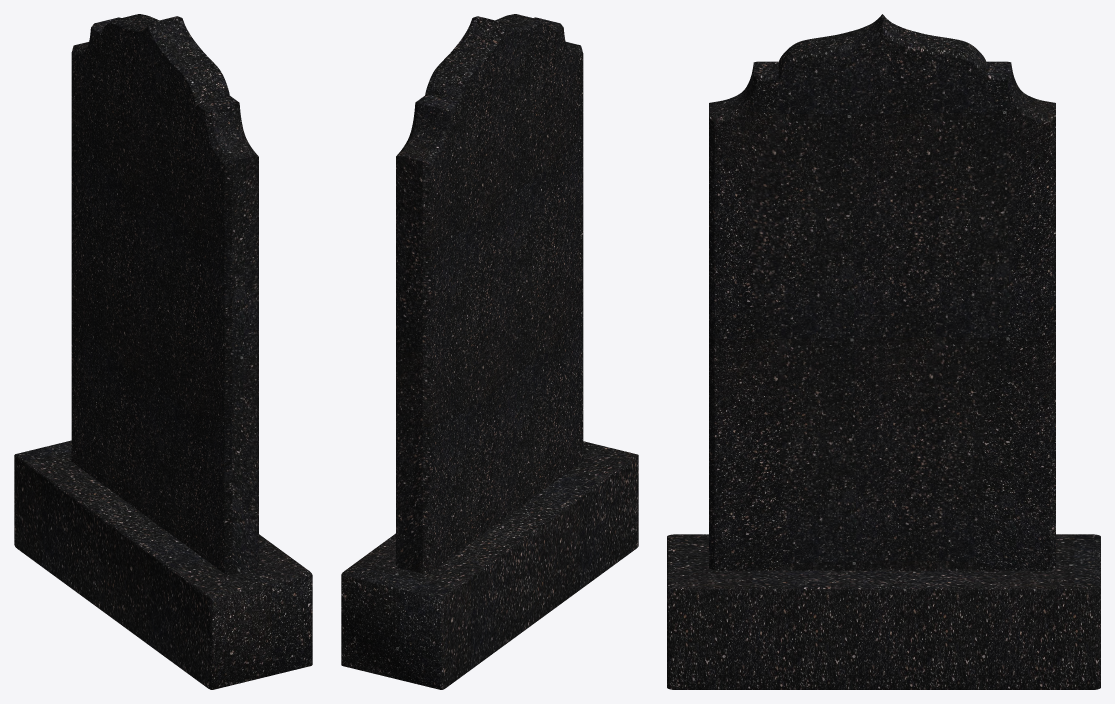
Rendered from Памятник вола Габро [granite_u_u] (70).glb.
The picture shows the model from 3 angles, left to right: view 1: azimuth 30°, elevation 25°; view 2: azimuth 150°, elevation 25°; view 3: azimuth 270°, elevation 25°; orthographic projection. The views are drawn at different scales.
Parts seen in each view (by area): view 1: Куб.137; view 2: Куб.137; view 3: Куб.137.
Boxes of the visible parts, bbox=[...] form: Куб.137: bbox=[14, 14, 312, 689]; Куб.137: bbox=[341, 14, 638, 689]; Куб.137: bbox=[667, 14, 1100, 689].
Bounding box in the file's own units: 0.15 × 0.8181 × 0.5.
Materials: 1 (1 with a texture image).
